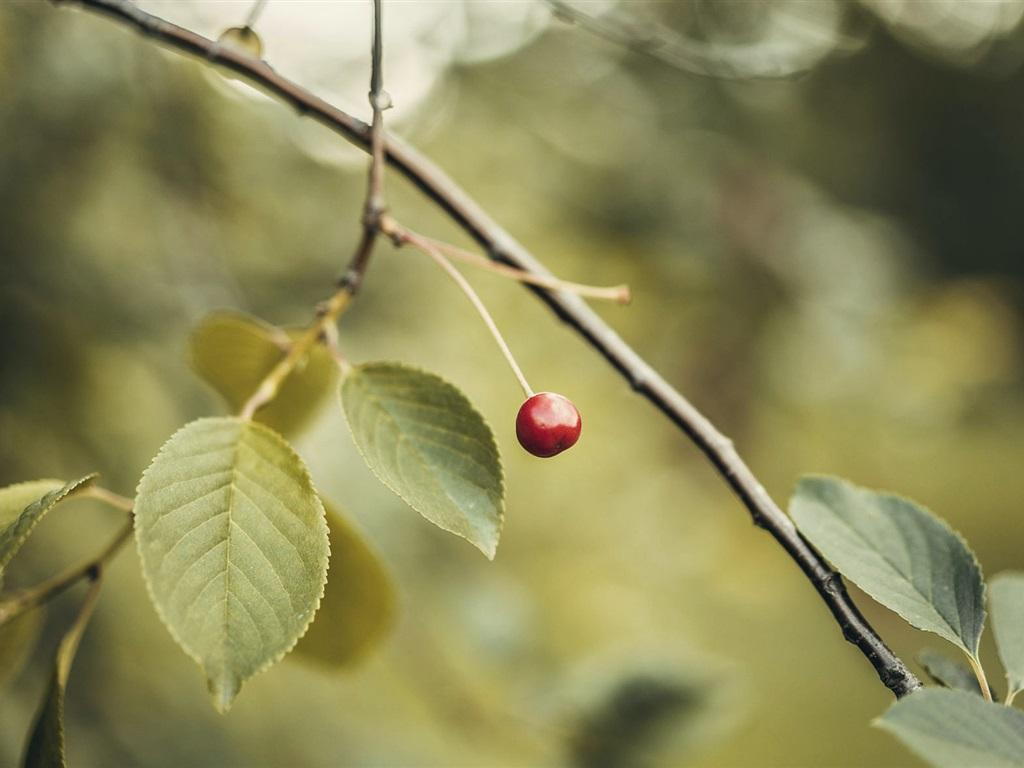apple: (515, 392, 582, 458)
